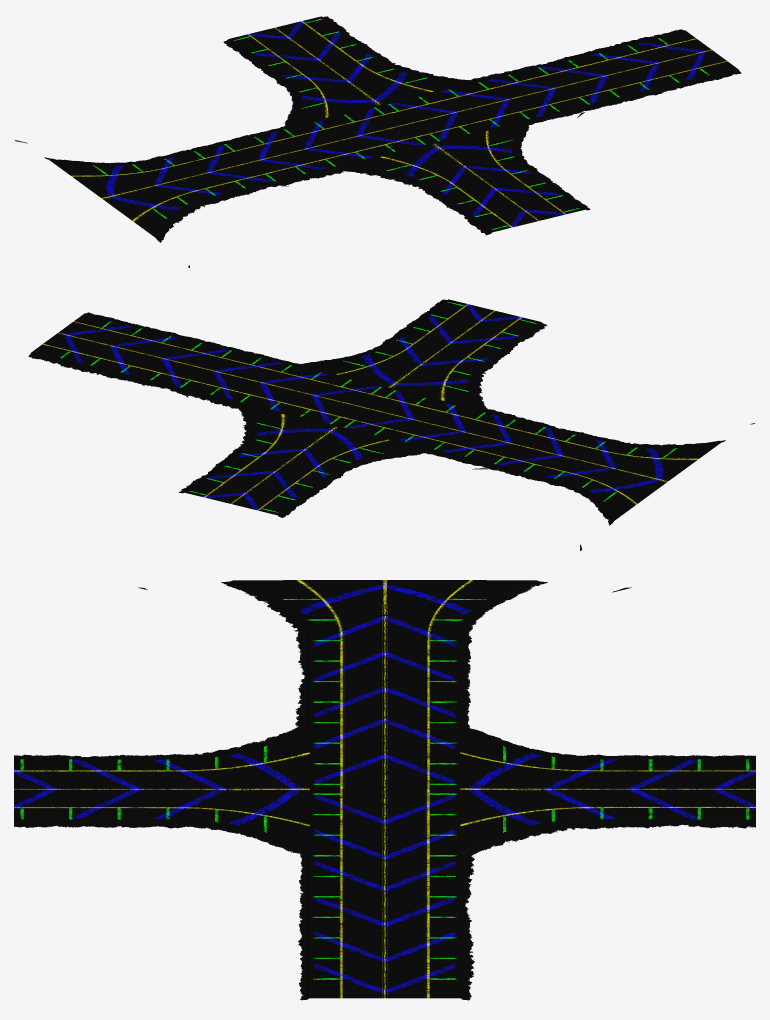
File: SM_Road_Connection_03.fbx
3 views of the same model, one above another, from view 1: azimuth 30°, elevation 25°; view 2: azimuth 150°, elevation 25°; view 3: azimuth 270°, elevation 25° (orthographic). The views are drawn at different scales.
Visible parts, largest first — view 1: SM_Road_Connection_03_LOD0; view 2: SM_Road_Connection_03_LOD0; view 3: SM_Road_Connection_03_LOD0.
Part boxes in pixels (x1=…): SM_Road_Connection_03_LOD0: x1=15, y1=16, x2=741, y2=267; SM_Road_Connection_03_LOD0: x1=28, y1=299, x2=754, y2=550; SM_Road_Connection_03_LOD0: x1=14, y1=580, x2=755, y2=1000.
Size of the model in its own units: 8000 by 6000 by 68.25.
Materials: 1 (1 with a texture image).
